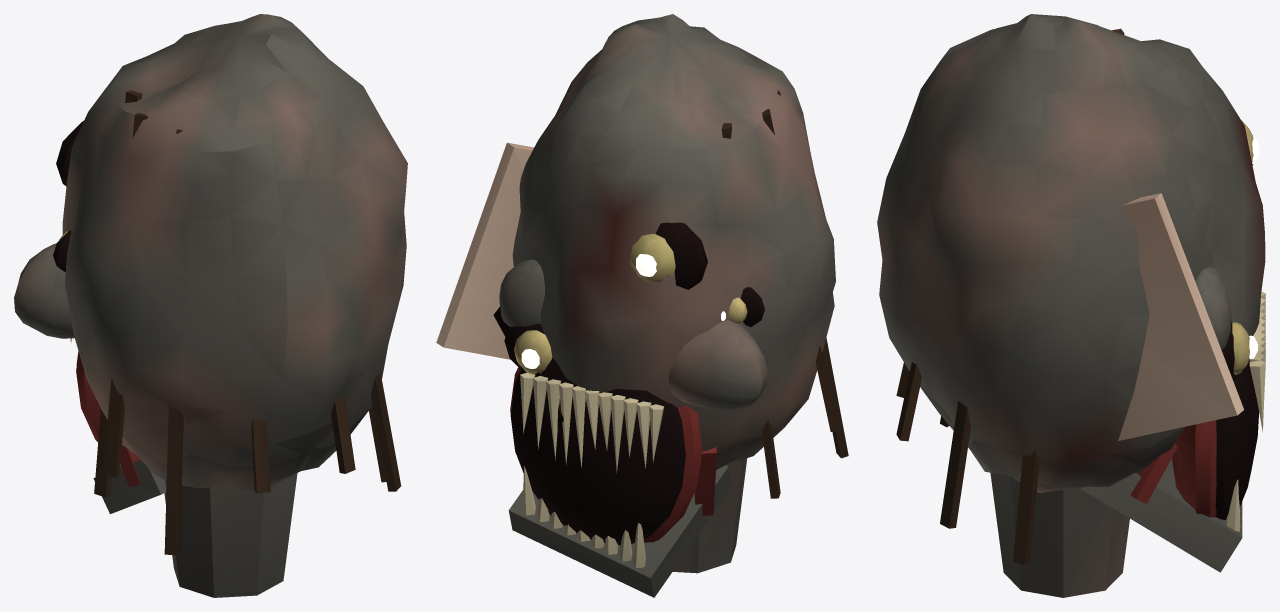
The model's file is PapaMonsterHead.glb.
3 views of the same model, side by side, from view 1: azimuth 30°, elevation 25°; view 2: azimuth 150°, elevation 25°; view 3: azimuth 270°, elevation 25° (orthographic). The views are drawn at different scales.
Visible parts, largest first — view 1: PapaMonsterHead_monster_skin, PapaMonsterHead_wood_dark, PapaMonsterHead_monster_flesh, PapaMonsterHead_maw; view 2: PapaMonsterHead_monster_skin, PapaMonsterHead_maw, PapaMonsterHead_leather, PapaMonsterHead_teeth, PapaMonsterHead_monster_flesh, PapaMonsterHead_eye_white, PapaMonsterHead_wood_dark, PapaMonsterHead_eye_glow; view 3: PapaMonsterHead_monster_skin, PapaMonsterHead_leather, PapaMonsterHead_wood_dark, PapaMonsterHead_maw, PapaMonsterHead_monster_flesh, PapaMonsterHead_teeth, PapaMonsterHead_eye_white.
Part boxes in pixels (x1=…): PapaMonsterHead_monster_skin: x1=14, y1=14, x2=407, y2=597; PapaMonsterHead_wood_dark: x1=94, y1=90, x2=401, y2=555; PapaMonsterHead_monster_flesh: x1=76, y1=352, x2=140, y2=486; PapaMonsterHead_maw: x1=53, y1=121, x2=83, y2=364; PapaMonsterHead_monster_skin: x1=499, y1=14, x2=835, y2=597; PapaMonsterHead_maw: x1=493, y1=222, x2=764, y2=545; PapaMonsterHead_leather: x1=436, y1=142, x2=533, y2=359; PapaMonsterHead_teeth: x1=520, y1=372, x2=664, y2=567; PapaMonsterHead_monster_flesh: x1=510, y1=367, x2=716, y2=542; PapaMonsterHead_eye_white: x1=514, y1=234, x2=747, y2=374; PapaMonsterHead_wood_dark: x1=721, y1=90, x2=848, y2=498; PapaMonsterHead_eye_glow: x1=521, y1=254, x2=725, y2=368; PapaMonsterHead_monster_skin: x1=877, y1=14, x2=1265, y2=597; PapaMonsterHead_leather: x1=1118, y1=193, x2=1243, y2=440; PapaMonsterHead_wood_dark: x1=896, y1=28, x2=1124, y2=565; PapaMonsterHead_maw: x1=1215, y1=321, x2=1259, y2=519; PapaMonsterHead_monster_flesh: x1=1130, y1=420, x2=1216, y2=517; PapaMonsterHead_teeth: x1=1226, y1=291, x2=1265, y2=531; PapaMonsterHead_eye_white: x1=1232, y1=120, x2=1253, y2=374.
Size of the model in its own units: 1.32 by 2.12 by 1.3.
